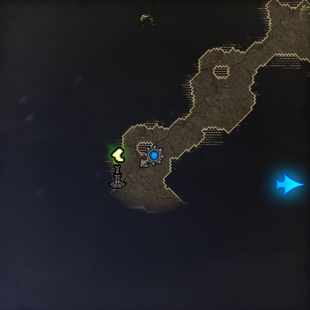SpeedPylon: (107, 146, 128, 188)
